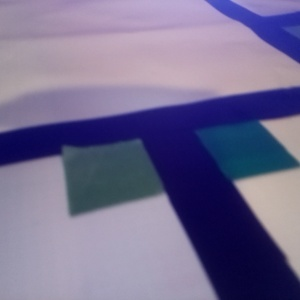bottom_left: (98, 88, 241, 147)
bottom_right: (192, 92, 300, 171)
